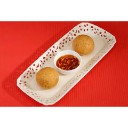bonda: (36, 67, 59, 89), (74, 34, 94, 56)
